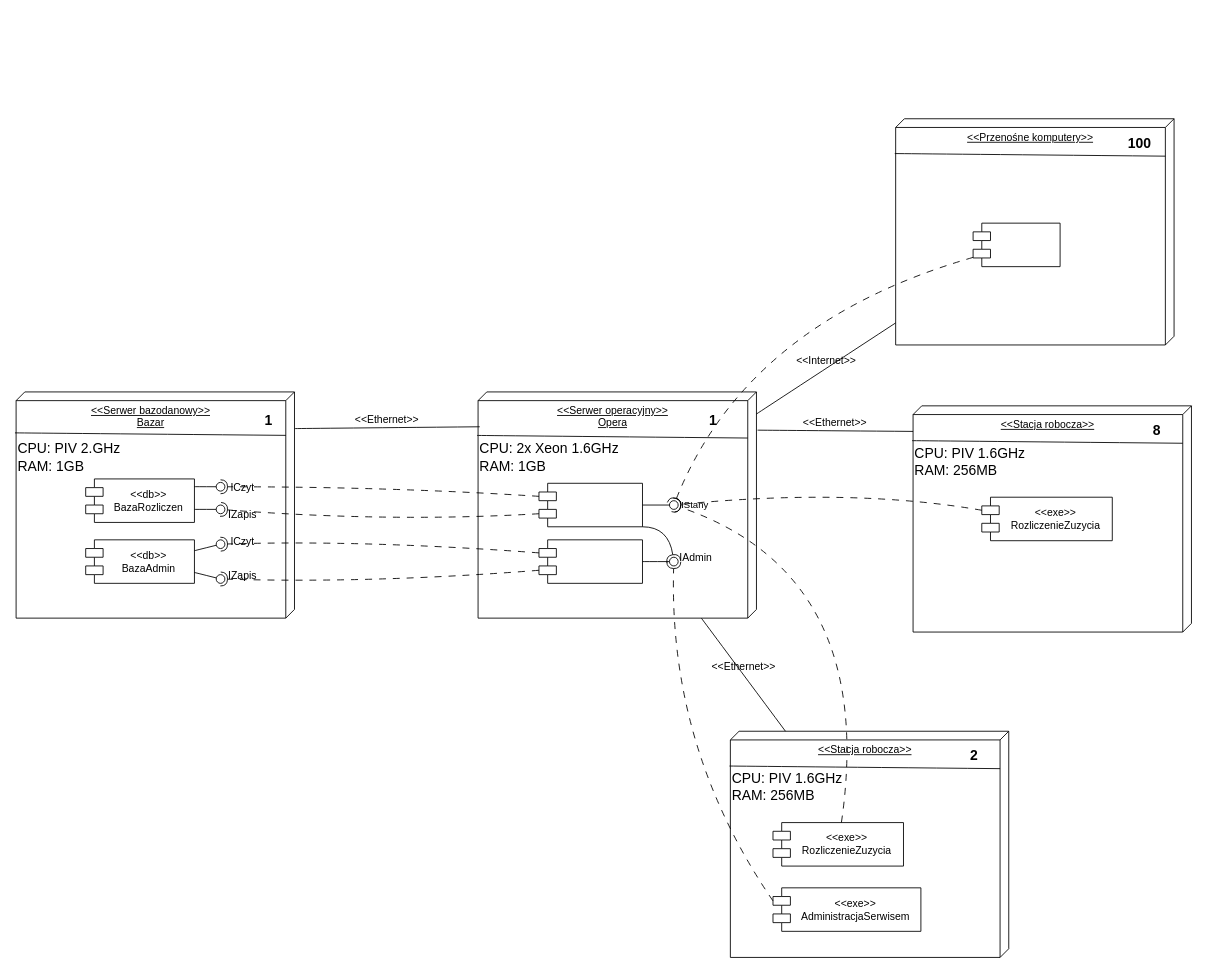
Some shapes in this 1208 by 973 pixel diagram are drawn without their labels. Each missing label, with the centre of its shape:
"<<exe>> Administrator" goes at point 590,561.
"<<exe>> Licznik" goes at point 1016,244.
"<<exe>> Rozliczenia" goes at point 590,504.
